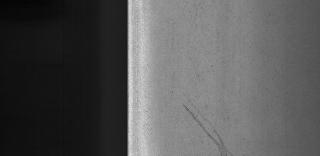water spot: (178, 92, 238, 156)
